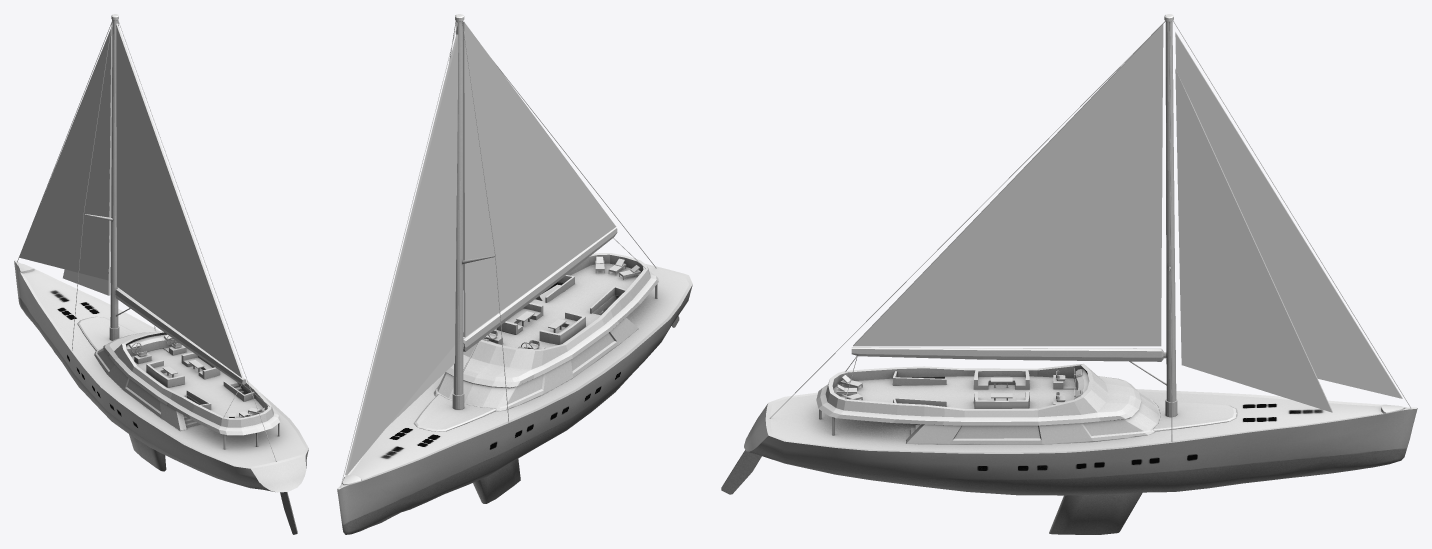
The model's file is sailing-xl.glb.
3 views of the same model, side by side, from view 1: azimuth 30°, elevation 25°; view 2: azimuth 150°, elevation 25°; view 3: azimuth 270°, elevation 25° (orthographic). The views are drawn at different scales.
Visible parts, largest first — view 1: SailingXLarge_LOD0, Sails; view 2: SailingXLarge_LOD0, Sails; view 3: Sails, SailingXLarge_LOD0.
Boxes of the visible parts, bbox=[...] form: SailingXLarge_LOD0: bbox=[14, 14, 308, 534]; Sails: bbox=[19, 23, 243, 378]; SailingXLarge_LOD0: bbox=[337, 14, 692, 534]; Sails: bbox=[345, 21, 616, 475]; Sails: bbox=[853, 24, 1402, 412]; SailingXLarge_LOD0: bbox=[721, 14, 1417, 534].
Bounding box in the file's own units: 1.33 × 4.61 × 5.61.
1 material, 1 textured.
